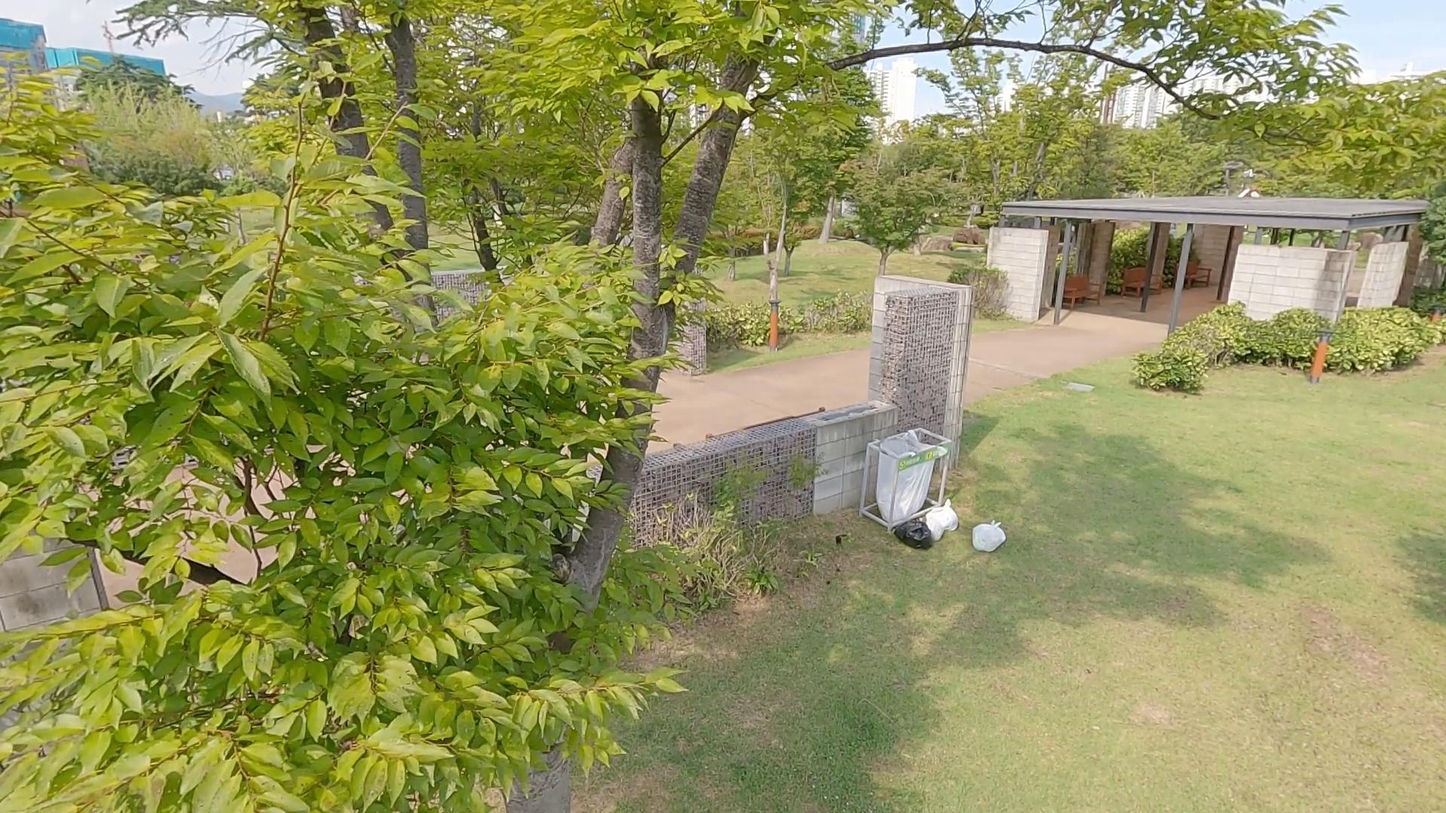trash: (893, 514, 934, 552), (970, 517, 1009, 554), (933, 498, 960, 534), (923, 509, 947, 542)
